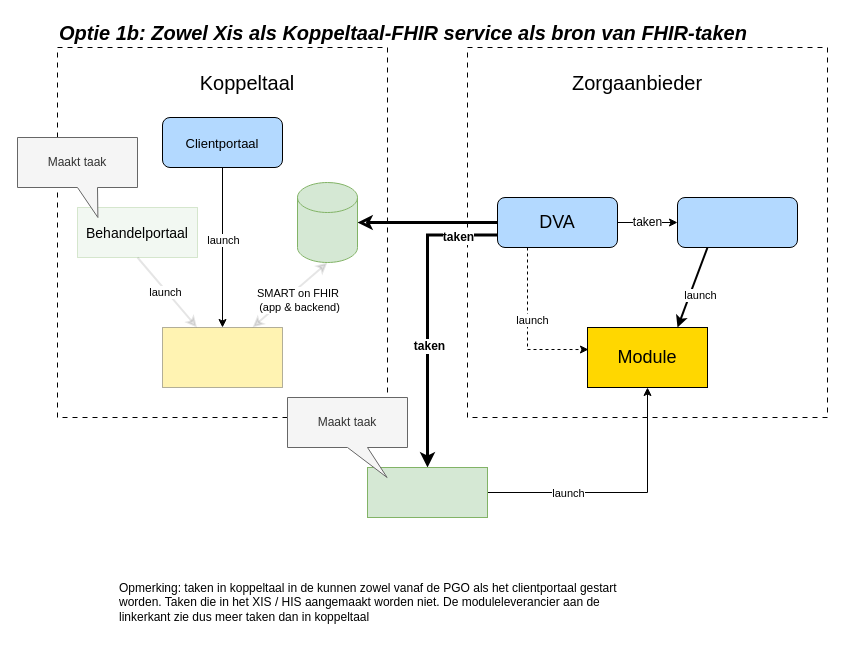
The diagram is 845 pixels wide and 664 high, and some of its shapes have lost their labels. The centre of each missing label's shape, as x and y in pixels:
"FHIR Service" belongs at (x=327, y=222).
"PGO" belongs at (x=737, y=222).
"Xis" belongs at (x=427, y=492).
